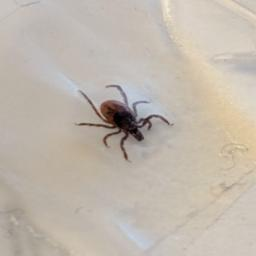Ixodes scapularis: (76, 87, 172, 162)
